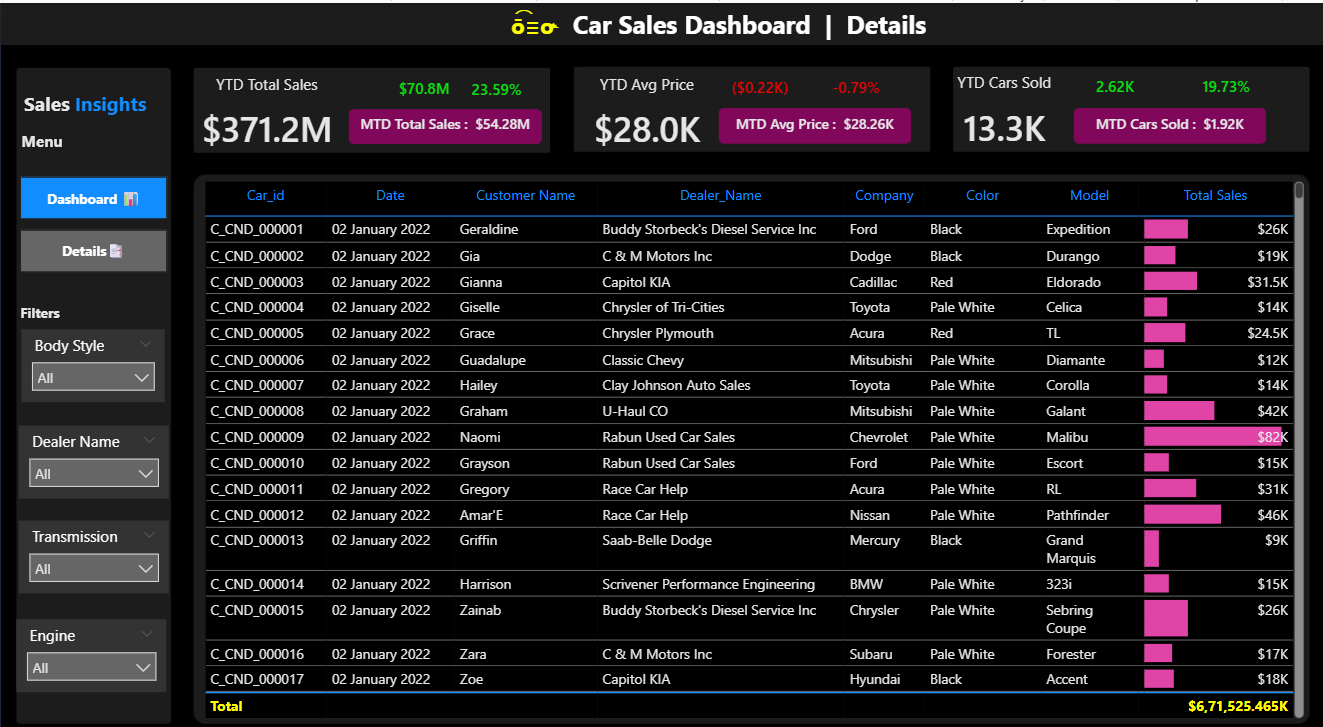

This screenshot's page, from the dashboard's own definition file:
{"tool":"powerbi","page":{"name":"Details📑","canvas":[1280,720],"ordinal":1},"visuals":[{"type":"card","title":"YTD Total Sales","fields":{"Values":["car_data.YTD Total Sales"]},"box":[167.5,67.5,180,88.8],"z":0},{"type":"card","fields":{"Values":["car_data.Sales Difference"]},"box":[356.2,66.2,107.5,36.2],"z":1000},{"type":"card","fields":{"Values":["car_data.YOY Sales Growth"]},"box":[426.2,67.5,107.5,36.2],"z":2000},{"type":"card","fields":{"Values":["car_data.MTD KPI"]},"box":[336.2,102.5,186.2,33.8],"z":3000},{"type":"card","title":"YTD Avg Price","fields":{"Values":["car_data.YTD Avg Price"]},"box":[534.4,67.8,180,88.9],"z":4000},{"type":"card","fields":{"Values":["car_data.Avg Price Diff"]},"box":[680,66.7,106.7,35.6],"z":5000},{"type":"card","fields":{"Values":["car_data.YOY Avg Price Growth"]},"box":[773.3,66.7,106.7,35.6],"z":6000},{"type":"card","fields":{"Values":["car_data.MTD Avg Price KPI"]},"box":[693.3,101.1,185.6,34.4],"z":7000},{"type":"card","title":"YTD Cars Sold","fields":{"Values":["car_data.YTD Cars Sold"]},"box":[880,66.7,180,88.9],"z":8000},{"type":"card","fields":{"Values":["car_data.cars Sold Diff"]},"box":[1023.3,65.6,106.7,35.6],"z":9000},{"type":"card","fields":{"Values":["car_data.YOY Cars Sold Growth"]},"box":[1130,65.6,106.7,35.6],"z":10000},{"type":"card","fields":{"Values":["car_data.MTD Cars Sold KPI"]},"box":[1036.7,101.1,185.6,34.4],"z":11000},{"type":"textbox","box":[383.8,0,620,51.2],"z":12000},{"type":"slicer","fields":{"Values":["car_data.Body Style"]},"box":[20,315,138.8,70],"z":13000},{"type":"slicer","fields":{"Values":["car_data.Dealer_Name"]},"box":[17.5,407.5,145,70],"z":14000},{"type":"slicer","fields":{"Values":["car_data.Transmission"]},"box":[17.5,500,145,70],"z":15000},{"type":"slicer","fields":{"Values":["car_data.Engine"]},"box":[16.2,595,145,70],"z":16000},{"type":"textbox","box":[15,285,150,30],"z":17000},{"type":"tableEx","fields":{"Values":["car_data.Car_id","car_data.Date","car_data.Customer Name","car_data.Dealer_Name","car_data.Company","car_data.Color","car_data.Model","car_data.Price ($)"]},"box":[191.2,167.5,1071.2,527.5],"z":18000},{"type":"textbox","box":[17.5,80,150,43.8],"z":19000},{"type":"textbox","box":[16.2,118.8,137.5,36.2],"z":20000},{"type":"pageNavigator","box":[18.8,167.5,142.5,92.5],"z":21000}]}

Visuals, with their boxes in screenshot pixels (x1, y1, x2, y2), scaled from the page's 1280x720 canvas onto the 1323x727 screenshot:
"YTD Total Sales" card: Rect(173, 68, 359, 158)
card - car_data.Sales Difference: Rect(368, 67, 479, 103)
card - car_data.YOY Sales Growth: Rect(441, 68, 552, 105)
card - car_data.MTD KPI: Rect(347, 103, 540, 138)
"YTD Avg Price" card: Rect(552, 68, 738, 158)
card - car_data.Avg Price Diff: Rect(703, 67, 813, 103)
card - car_data.YOY Avg Price Growth: Rect(799, 67, 910, 103)
card - car_data.MTD Avg Price KPI: Rect(717, 102, 908, 137)
"YTD Cars Sold" card: Rect(910, 67, 1096, 157)
card - car_data.cars Sold Diff: Rect(1058, 66, 1168, 102)
card - car_data.YOY Cars Sold Growth: Rect(1168, 66, 1278, 102)
card - car_data.MTD Cars Sold KPI: Rect(1072, 102, 1263, 137)
textbox: Rect(397, 0, 1038, 52)
slicer - car_data.Body Style: Rect(21, 318, 164, 389)
slicer - car_data.Dealer_Name: Rect(18, 411, 168, 482)
slicer - car_data.Transmission: Rect(18, 505, 168, 576)
slicer - car_data.Engine: Rect(17, 601, 167, 671)
textbox: Rect(16, 288, 171, 318)
tableEx - car_data.Car_id x car_data.Date: Rect(198, 169, 1305, 702)
textbox: Rect(18, 81, 173, 125)
textbox: Rect(17, 120, 159, 157)
pageNavigator: Rect(19, 169, 167, 263)
